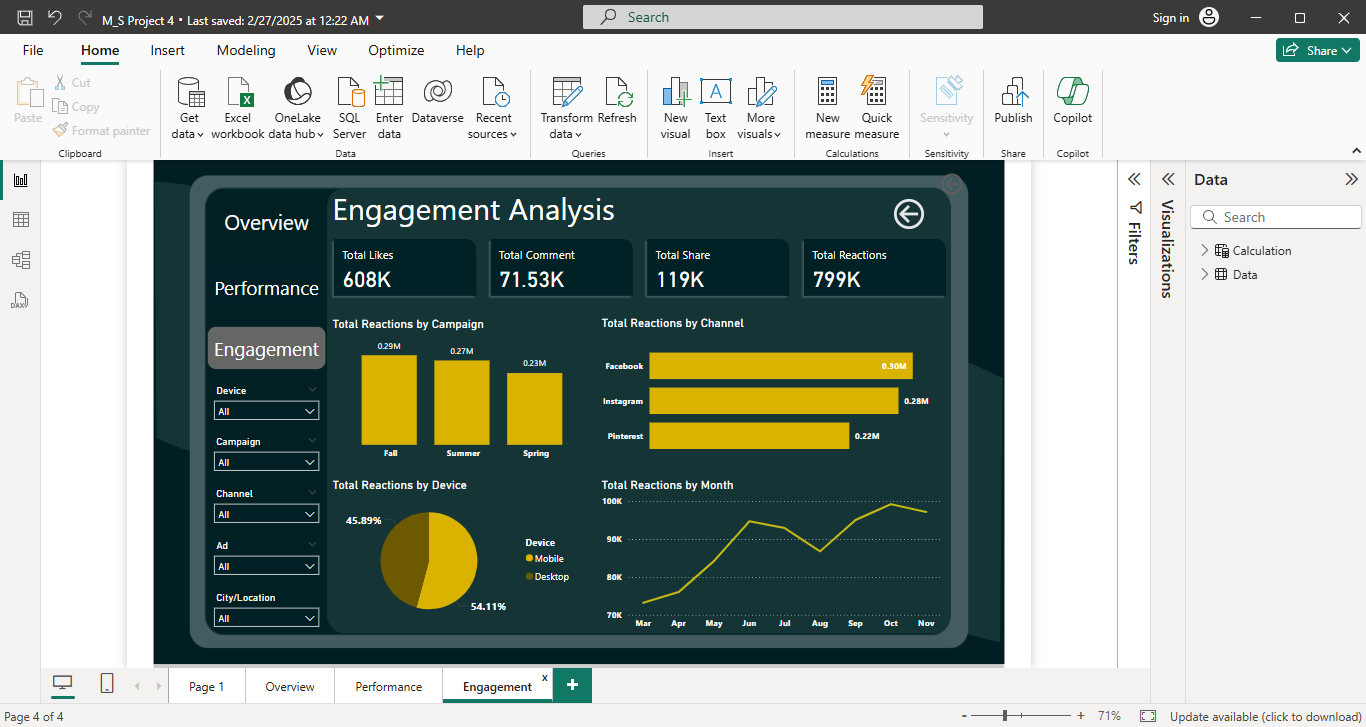

Layout of this report page (visuals, bound fields, positions):
{"tool":"powerbi","page":{"name":"Engagement","canvas":[1280,720],"ordinal":3},"visuals":[{"type":"cardVisual","fields":{"Data":["Calculation.Total Likes","Calculation.Total Comment","Calculation.Total Share","Calculation.Total Reactions"]},"box":[282,100.6,891.5,103.5],"z":0},{"type":"lineStackedColumnComboChart","fields":{"Category":["Data.Campaign"],"Y":["Calculation.Total Reactions"]},"box":[286.3,222.5,381.3,211.2],"z":1000},{"type":"barChart","fields":{"Category":["Data.Channel"],"Y":["Calculation.Total Reactions"]},"box":[667.6,221.1,476.2,215.4],"z":2000},{"type":"lineChart","fields":{"Category":["Data.Month"],"Y":["Calculation.Total Reactions"]},"box":[667.6,450.7,490.4,223.9],"z":3000},{"type":"pieChart","fields":{"Category":["Data.Device"],"Y":["Calculation.Total Reactions"]},"box":[286.3,450.7,354.3,215.4],"z":4000},{"type":"textbox","box":[286.3,34,453.5,107.7],"z":5000},{"type":"actionButton","box":[1149.4,14.2,100.6,39.7],"z":6000},{"type":"actionButton","box":[113.4,55.3,168.7,62.4],"z":7000},{"type":"actionButton","box":[113.4,148.8,168.7,62.4],"z":8000},{"type":"actionButton","box":[113.4,235.3,168.7,62.4],"z":9000},{"type":"slicer","fields":{"Values":["Data.Ad"]},"box":[113.4,532.9,168.7,73.7],"z":10000},{"type":"slicer","fields":{"Values":["Data.City/Location"]},"box":[113.4,606.6,168.7,73.7],"z":11000},{"type":"slicer","fields":{"Values":["Data.Channel"]},"box":[113.4,459.2,168.7,73.7],"z":12000},{"type":"slicer","fields":{"Values":["Data.Campaign"]},"box":[113.4,385.5,168.7,73.7],"z":13000},{"type":"slicer","fields":{"Values":["Data.Device"]},"box":[113.4,313.2,168.7,73.7],"z":14000},{"type":"actionButton","box":[1081.4,49.6,117.6,53.9],"z":15000}]}

Visuals, with their boxes on the page's 1280x720 design canvas (x1, y1, x2, y2). These are canvas units, not pixel positions in the 1366x727 screenshot, which may show the page scaled, cropped or inside an application window:
cardVisual - Calculation.Total Likes x Calculation.Total Comment: 282:101:1174:204
lineStackedColumnComboChart - Data.Campaign x Calculation.Total Reactions: 286:222:668:434
barChart - Data.Channel x Calculation.Total Reactions: 668:221:1144:436
lineChart - Data.Month x Calculation.Total Reactions: 668:451:1158:675
pieChart - Data.Device x Calculation.Total Reactions: 286:451:641:666
textbox: 286:34:740:142
actionButton: 1149:14:1250:54
actionButton: 113:55:282:118
actionButton: 113:149:282:211
actionButton: 113:235:282:298
slicer - Data.Ad: 113:533:282:607
slicer - Data.City/Location: 113:607:282:680
slicer - Data.Channel: 113:459:282:533
slicer - Data.Campaign: 113:386:282:459
slicer - Data.Device: 113:313:282:387
actionButton: 1081:50:1199:104
